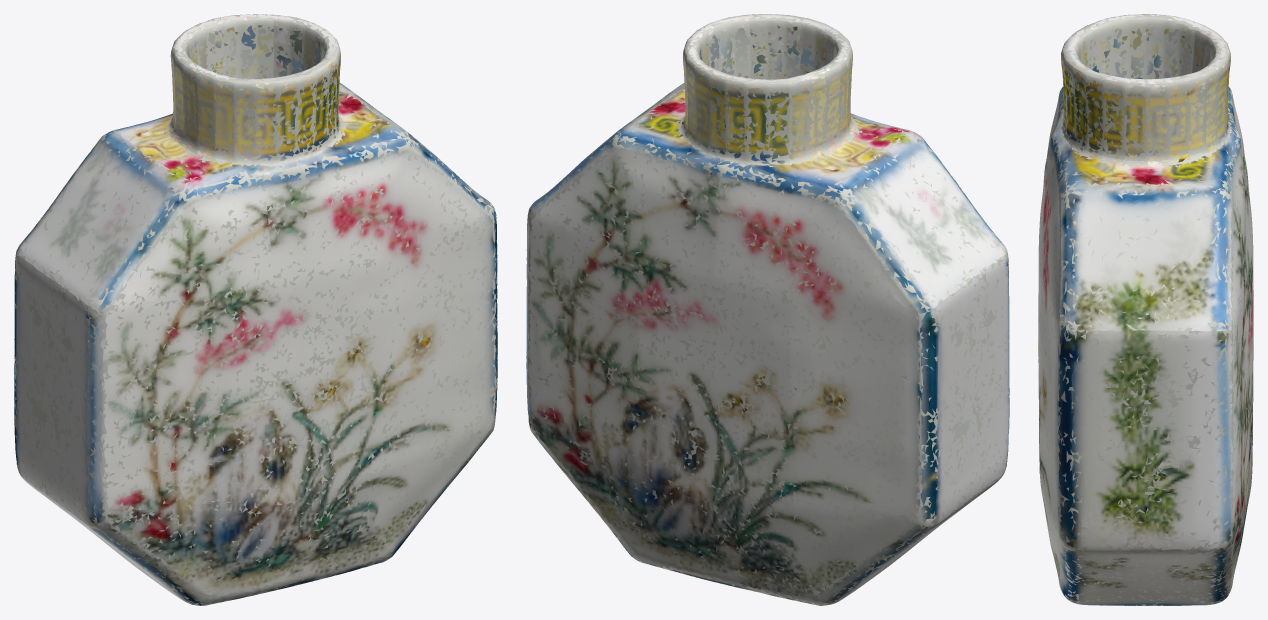
File: 八角鼻烟壶.glb
3 views of the same model, side by side, from view 1: azimuth 30°, elevation 25°; view 2: azimuth 150°, elevation 25°; view 3: azimuth 270°, elevation 25° (orthographic).
Parts seen in each view (by area): view 1: geometry_0; view 2: geometry_0; view 3: geometry_0.
Part boxes in pixels (left/top/right/bottom): geometry_0: left=14, top=14, right=497, bottom=605; geometry_0: left=526, top=14, right=1009, bottom=605; geometry_0: left=1038, top=14, right=1253, bottom=605.
Bounding box in the file's own units: 0.0626 × 0.075 × 0.0285.
Materials: 1 (1 with a texture image).
